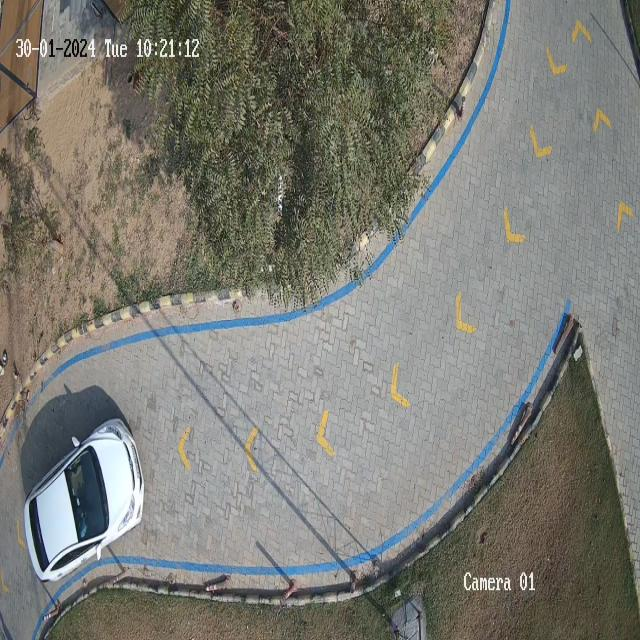car: (24, 420, 145, 581)
